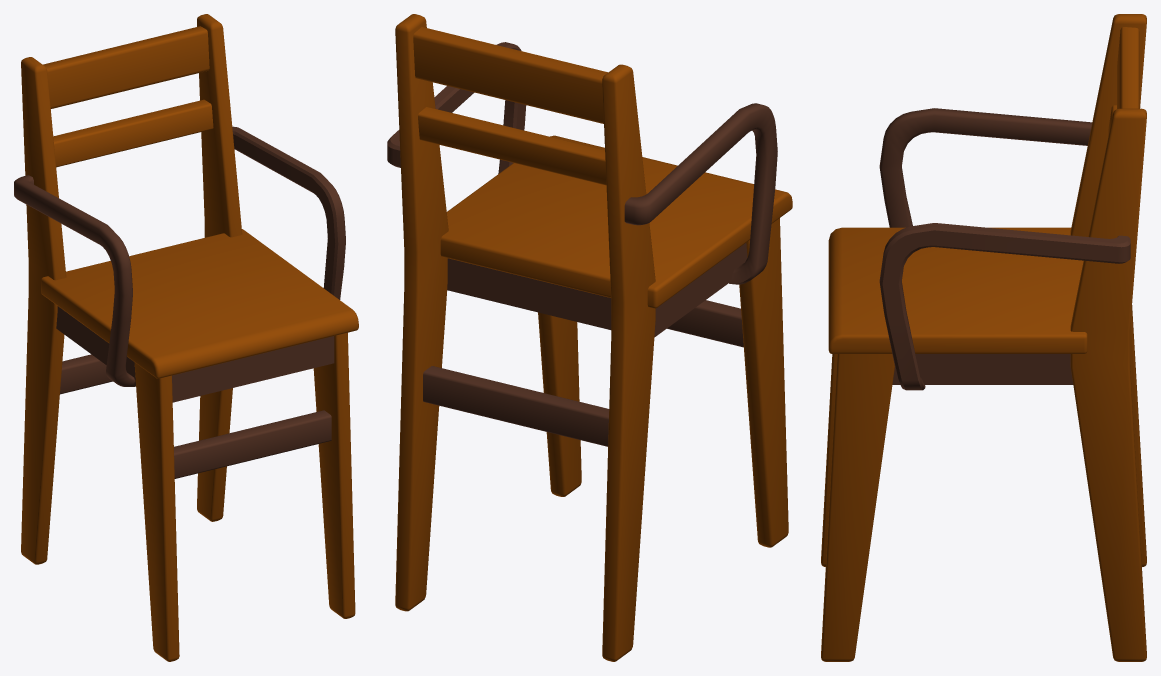
The model's file is Chair.fbx.
3 views of the same model, side by side, from view 1: azimuth 30°, elevation 25°; view 2: azimuth 150°, elevation 25°; view 3: azimuth 270°, elevation 25° (orthographic). The views are drawn at different scales.
Visible parts, largest first — view 1: Chair; view 2: Chair; view 3: Chair.
Boxes of the visible parts, x1,y1,x2,y2 form: Chair: (14,14,358,661); Chair: (387,14,792,661); Chair: (821,14,1146,661).
Bounding box in the file's own units: 0.3973 × 0.8453 × 0.4536.
